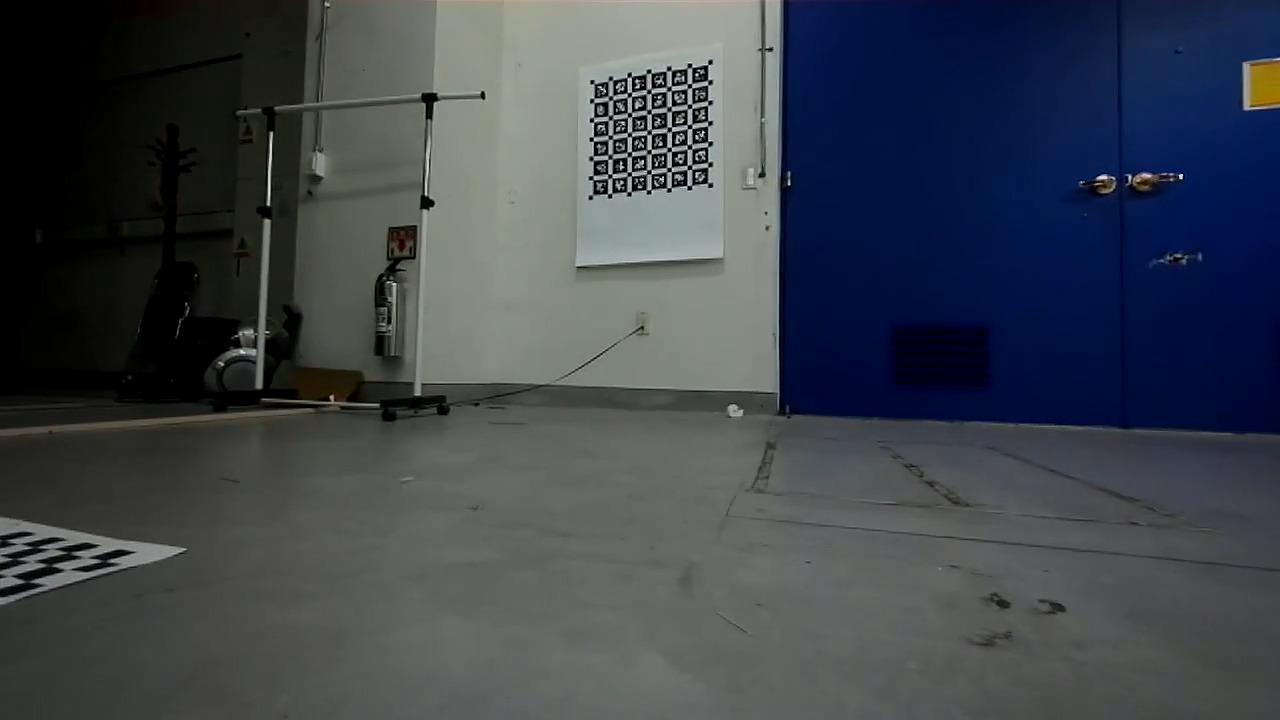crazyflie: (1141, 246, 1207, 271)
